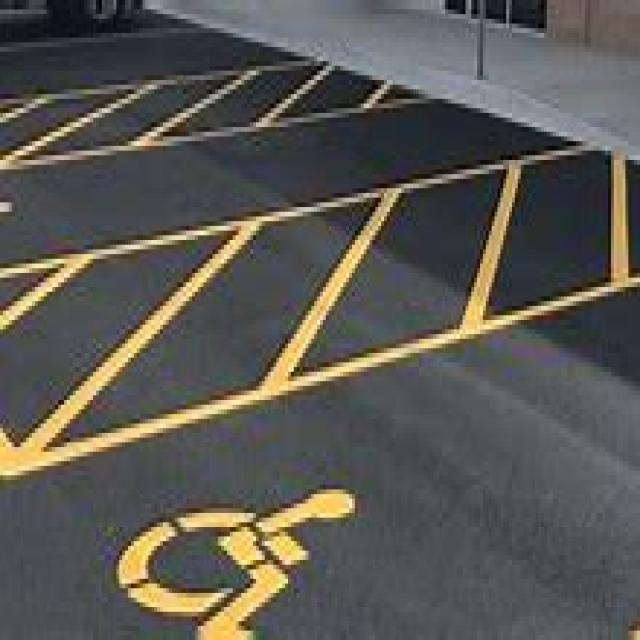symbol_of_access: (115, 484, 360, 640)
